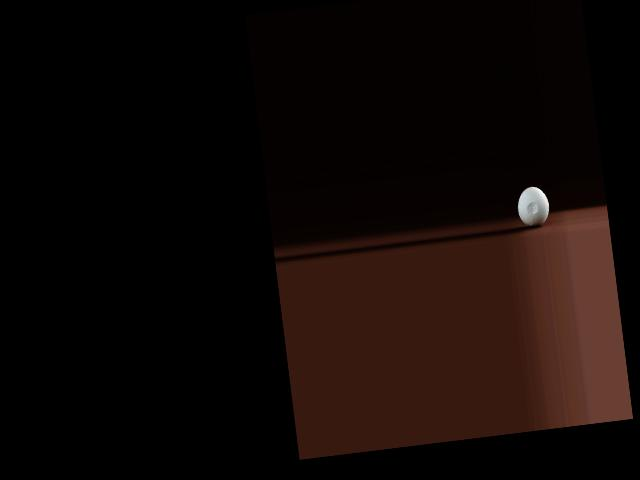egg: (515, 184, 551, 228)
